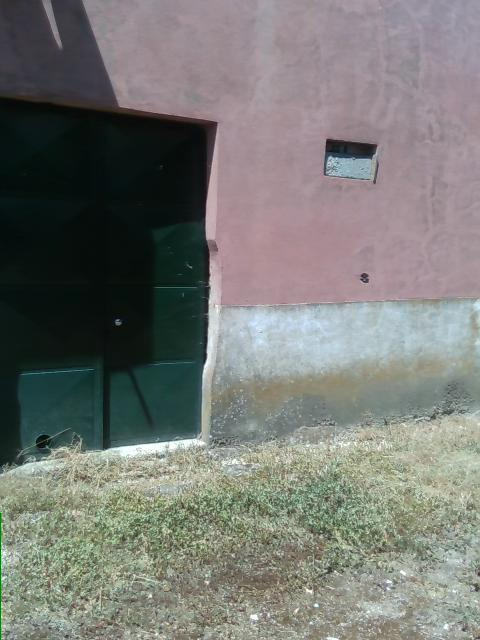door: (1, 90, 221, 469)
